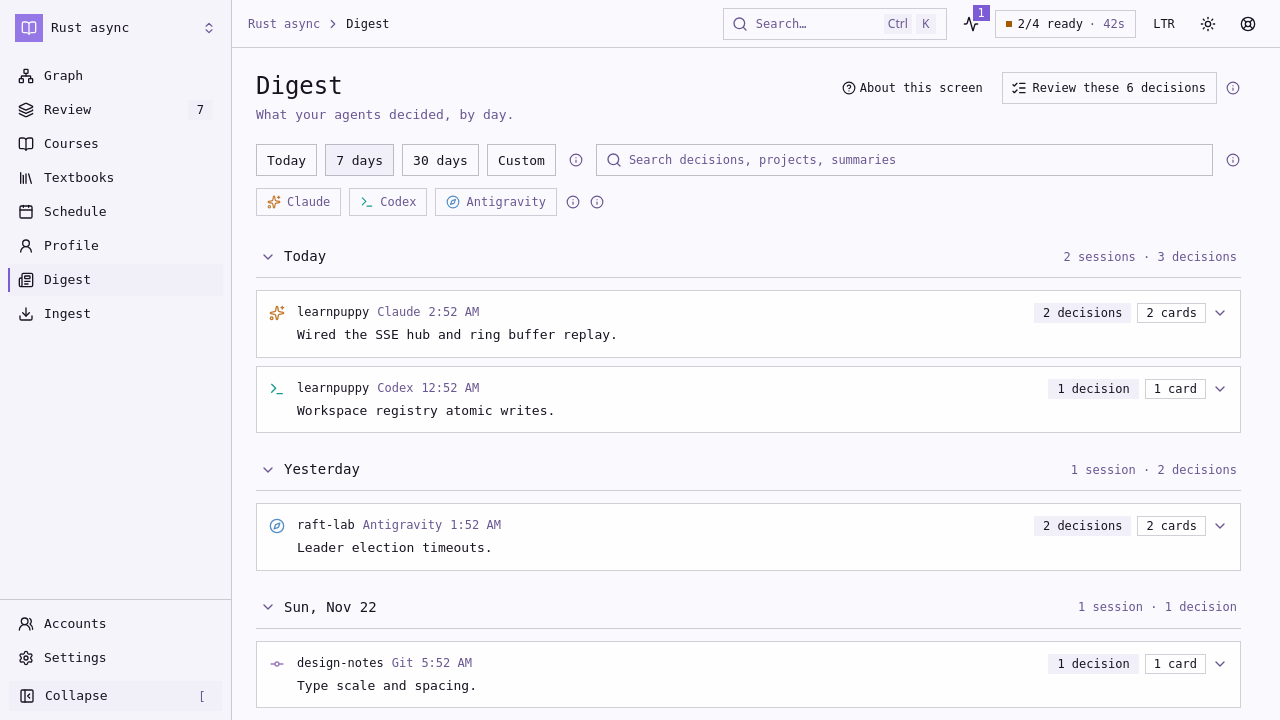
Digest filters (URL-backed) › filters by source chip
Expected: the element with test id "digest-days" is shown, x1=256 y1=236 x2=1241 y2=719
Click the button with test id "digest-source-codex".
click(388, 202)  # box x1=349 y1=188 x2=428 y2=216
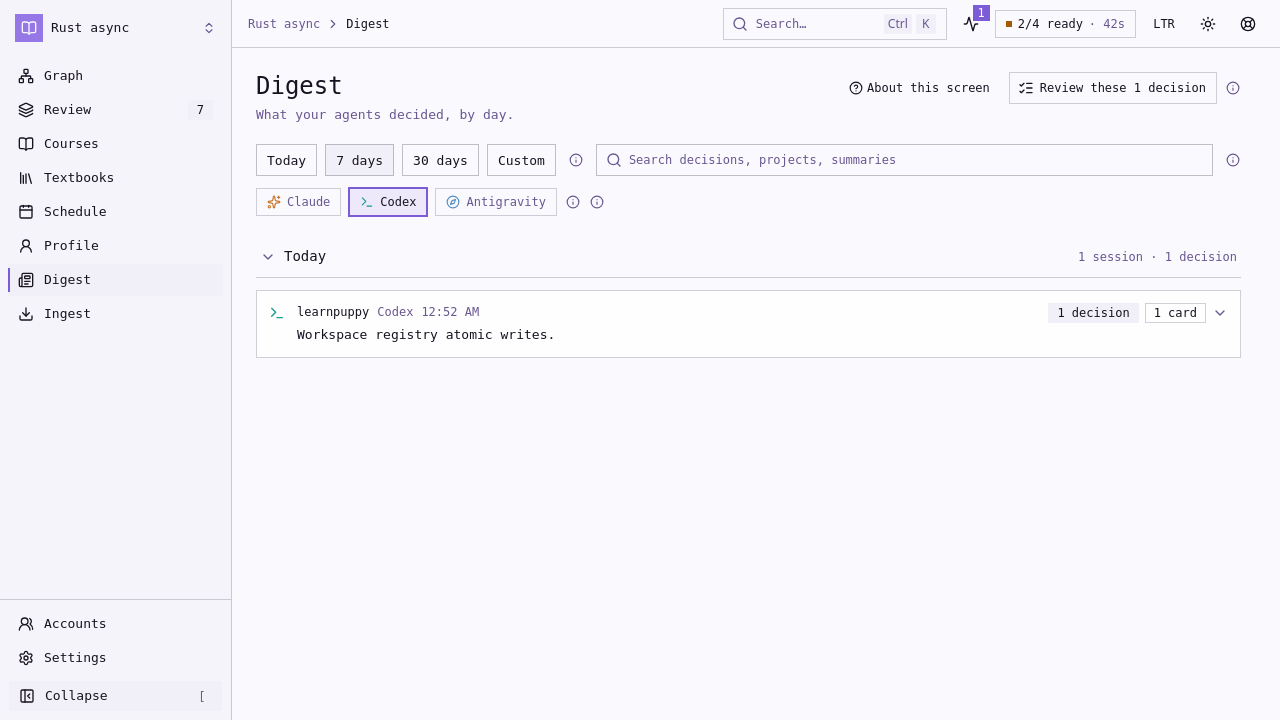
Expected: the element with test id "digest-session-sess_b" is shown, x1=256 y1=290 x2=1241 y2=358
Result: the element with test id "digest-session-sess_a" is gone
